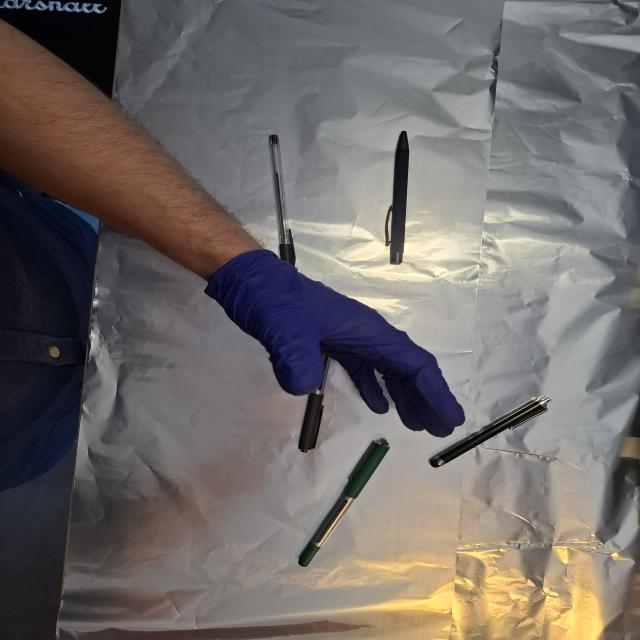glove_on: (207, 250, 469, 440)
